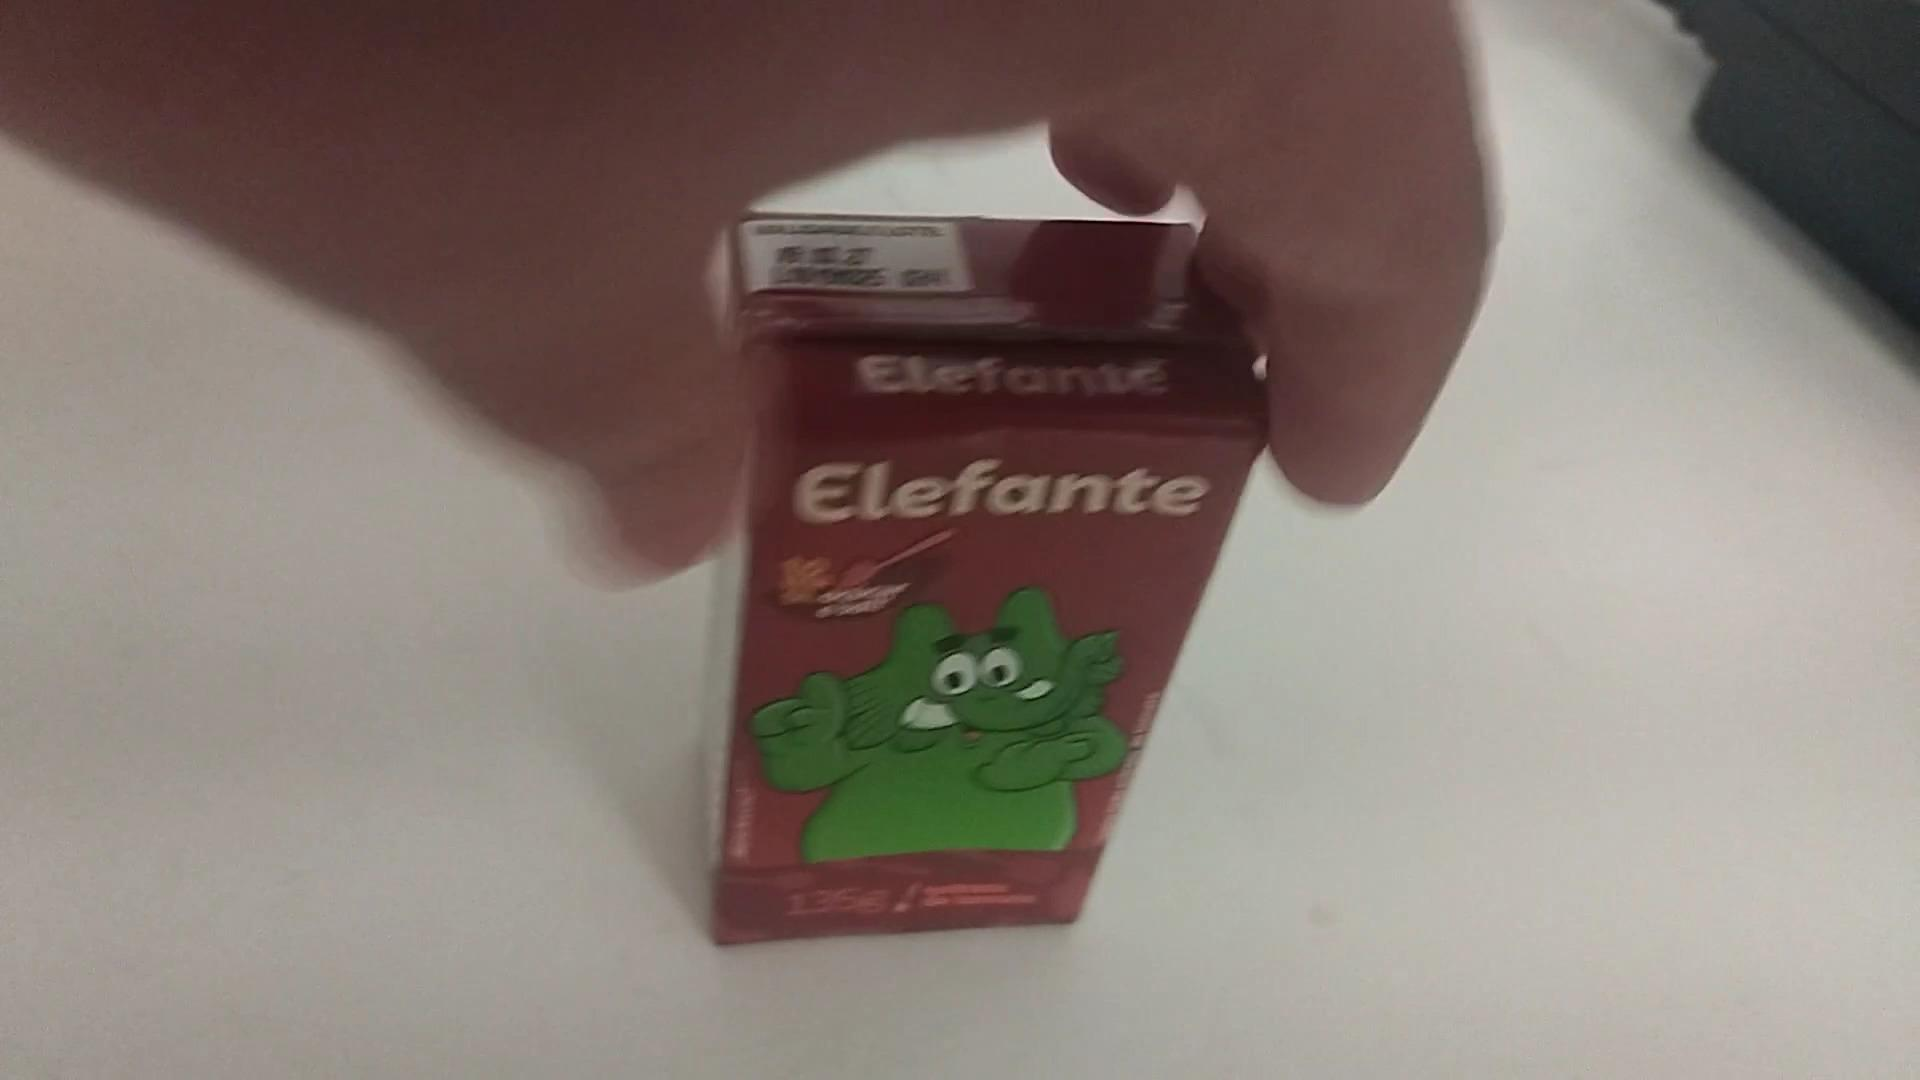tomate: (679, 183, 1323, 955)
